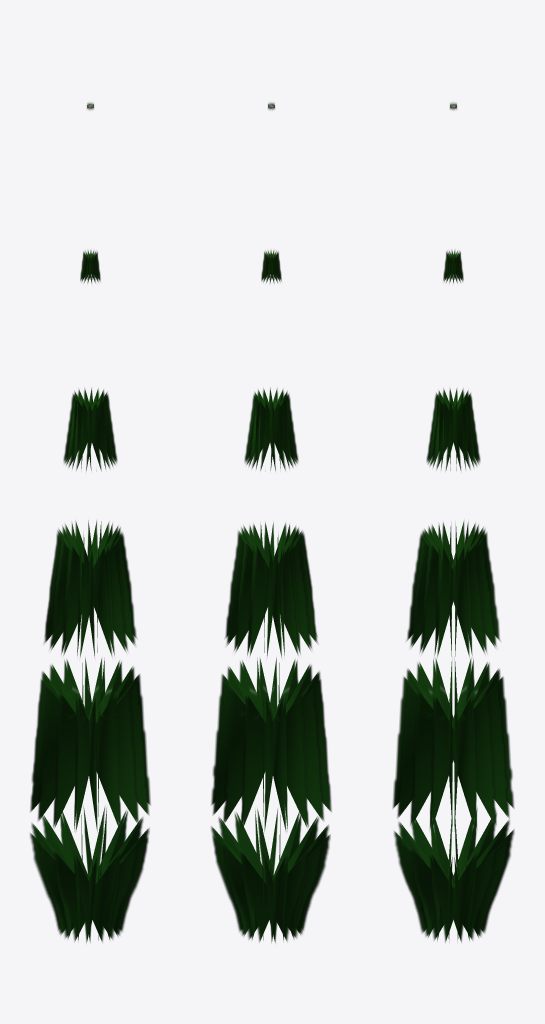
The model's file is Wetland_Cattail_1.glb.
3 views of the same model, side by side, from view 1: azimuth 30°, elevation 25°; view 2: azimuth 150°, elevation 25°; view 3: azimuth 270°, elevation 25° (orthographic).
Parts seen in each view (by area): view 1: Wetland_Cattail_1; view 2: Wetland_Cattail_1; view 3: Wetland_Cattail_1.
Boxes of the visible parts, box(x1,y1,x2,y2) form: Wetland_Cattail_1: box(30, 102, 150, 942); Wetland_Cattail_1: box(211, 102, 331, 942); Wetland_Cattail_1: box(392, 102, 514, 942).
Bounding box in the file's own units: 0.32 × 2.18 × 0.32.
Materials: 1 (1 with a texture image).
